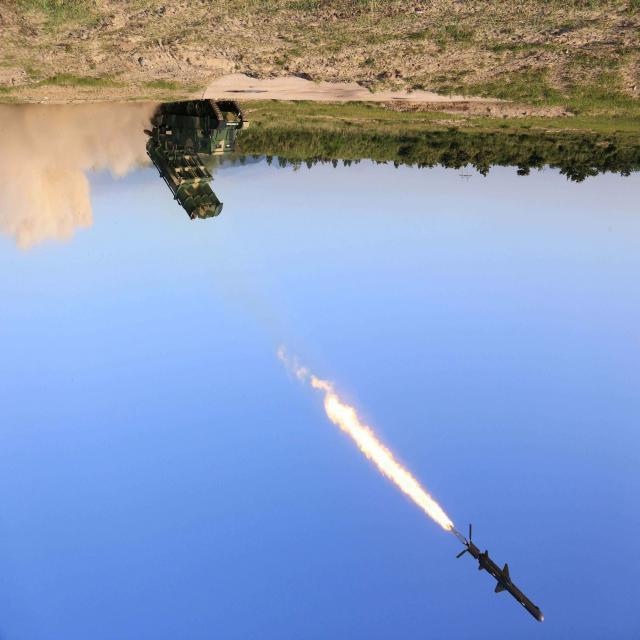missile: (450, 520, 549, 634)
